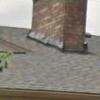Chimney: (26, 2, 91, 54)
